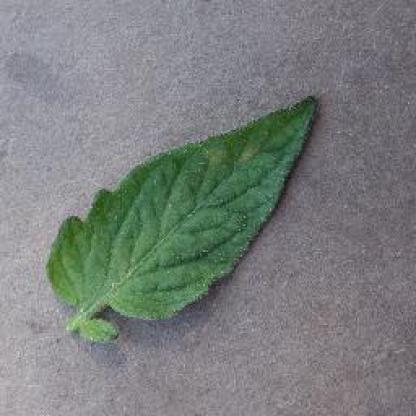bad leaf: (120, 154, 260, 278), (66, 208, 181, 329), (213, 92, 326, 214)
